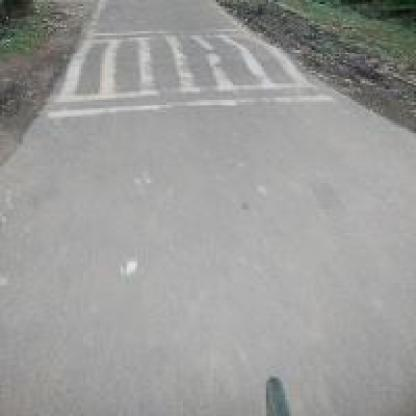Speed Bump: (48, 27, 341, 121)
